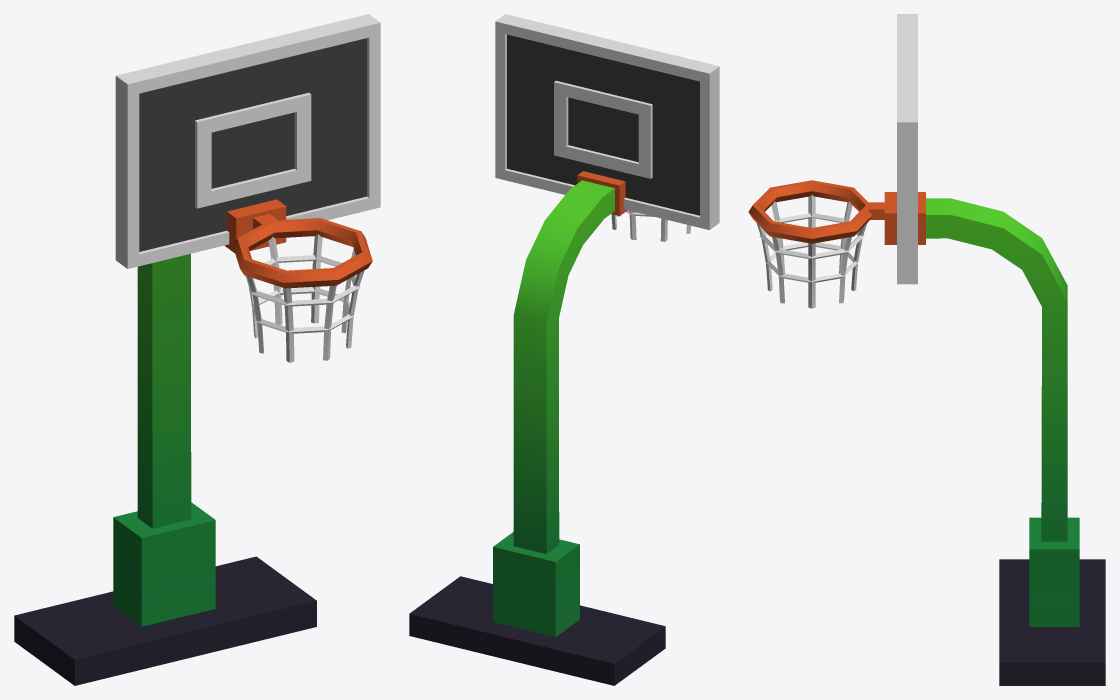
Rendered from Basketball_Stand_E.fbx.
3 views of the same model, side by side, from view 1: azimuth 30°, elevation 25°; view 2: azimuth 150°, elevation 25°; view 3: azimuth 270°, elevation 25° (orthographic). The views are drawn at different scales.
Parts seen in each view (by area): view 1: Basketball_Stand_E; view 2: Basketball_Stand_E; view 3: Basketball_Stand_E.
Boxes of the visible parts, x1=… form: Basketball_Stand_E: x1=14, y1=14, x2=380, y2=685; Basketball_Stand_E: x1=409, y1=14, x2=719, y2=685; Basketball_Stand_E: x1=748, y1=14, x2=1105, y2=685.
Bounding box in the file's own units: 154 × 376 × 215.
